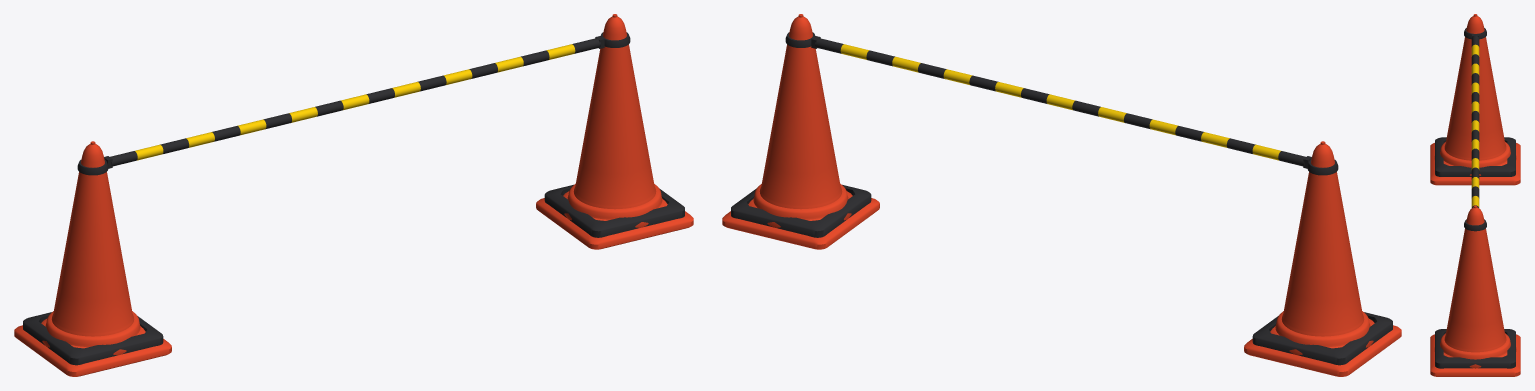
Rendered from Traffic cones and connecting bars.glb.
3 views of the same model, side by side, from view 1: azimuth 30°, elevation 25°; view 2: azimuth 150°, elevation 25°; view 3: azimuth 270°, elevation 25° (orthographic). The views are drawn at different scales.
Parts seen in each view (by area): view 1: ConeBar_L_Body, ConeBar_R_Body, ConeBar_Bar, ConeBar_R_Weight, ConeBar_L_Weight, ConeBar_R_Base, ConeBar_L_Base; view 2: ConeBar_L_Body, ConeBar_R_Body, ConeBar_Bar, ConeBar_R_Weight, ConeBar_L_Weight, ConeBar_R_Base, ConeBar_L_Base; view 3: ConeBar_R_Body, ConeBar_L_Body, ConeBar_Bar, ConeBar_R_Weight, ConeBar_L_Weight, ConeBar_R_Base, ConeBar_L_Base, ConeBar_R_Band, ConeBar_L_Band.
Part boxes in pixels (<box>): ConeBar_L_Body: <box>41,141,145,355</box>; ConeBar_R_Body: <box>563,14,667,227</box>; ConeBar_Bar: <box>109,38,600,166</box>; ConeBar_R_Weight: <box>544,184,684,237</box>; ConeBar_L_Weight: <box>23,312,163,365</box>; ConeBar_R_Base: <box>536,198,693,249</box>; ConeBar_L_Base: <box>14,325,171,376</box>; ConeBar_L_Body: <box>1270,141,1374,355</box>; ConeBar_R_Body: <box>748,14,852,227</box>; ConeBar_Bar: <box>815,38,1306,166</box>; ConeBar_R_Weight: <box>731,184,871,237</box>; ConeBar_L_Weight: <box>1252,312,1392,365</box>; ConeBar_R_Base: <box>722,198,879,249</box>; ConeBar_L_Base: <box>1244,325,1401,376</box>; ConeBar_R_Body: <box>1434,205,1516,368</box>; ConeBar_L_Body: <box>1434,14,1516,175</box>; ConeBar_Bar: <box>1471,35,1479,207</box>; ConeBar_R_Weight: <box>1435,329,1515,368</box>; ConeBar_L_Weight: <box>1435,137,1515,176</box>; ConeBar_R_Base: <box>1430,334,1520,376</box>; ConeBar_L_Base: <box>1430,143,1520,185</box>; ConeBar_R_Band: <box>1464,219,1486,231</box>; ConeBar_L_Band: <box>1464,28,1486,39</box>.
Size of the model in its own units: 2.28 by 0.703 by 0.38.
